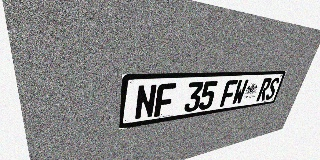3: (183, 81, 204, 113)
5: (198, 81, 218, 110)
F: (154, 83, 176, 117), (219, 80, 238, 107)
N: (134, 84, 157, 120)
R: (256, 78, 272, 101)
S: (264, 77, 280, 100)
W: (231, 79, 249, 105)
